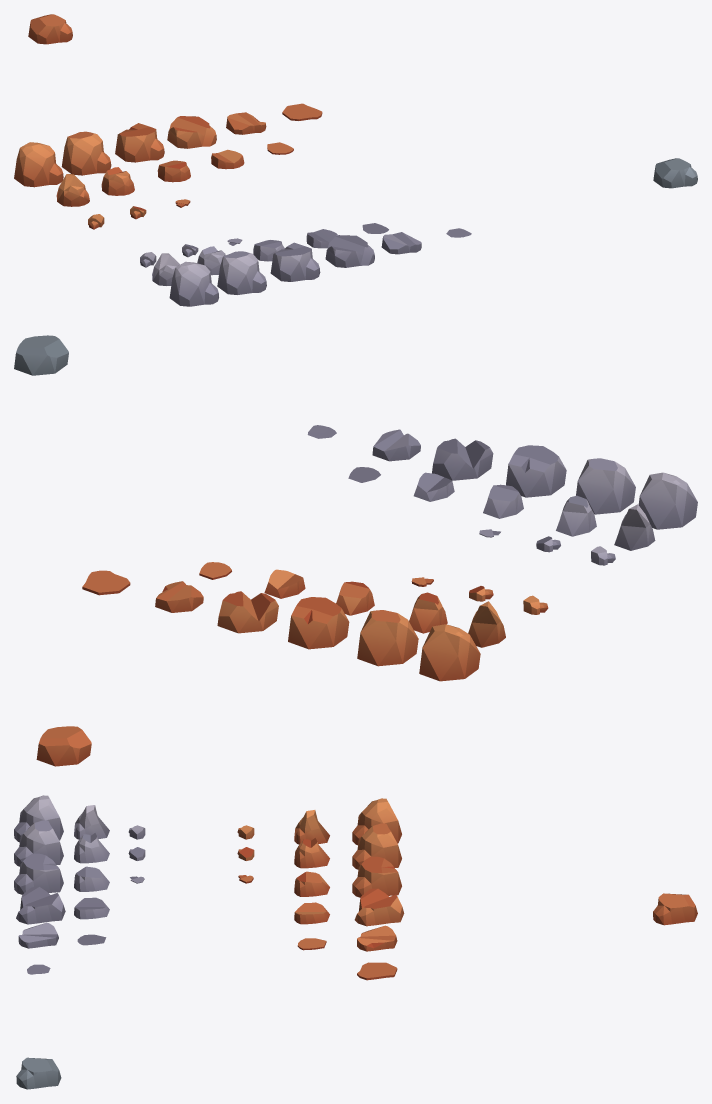
File: Stone.fbx
3 views of the same model, one above another, from view 1: azimuth 30°, elevation 25°; view 2: azimuth 150°, elevation 25°; view 3: azimuth 270°, elevation 25° (orthographic). The views are drawn at different scales.
Parts seen in each view (by area): view 1: Stone_C, Stone_S2_A, Stone_C_1, Stone_S2_A_1, Stone_S2_A_2, Stone_C_2, Stone_C_3, Stone_S2_A_3, Stone_S2_A_3.001, Stone_C_3.002, Stone_S2_B, Stone_S2_B_1 (+8 smaller); view 2: Stone_S2_A, Stone_S2_A_1, Stone_C, Stone_S2_A_2, Stone_C_1, Stone_C_2, Stone_S2_A_3, Stone_C_3, Stone_S2_A_3.001, Stone_C_3.002, Stone_B, Stone_B_1 (+9 smaller); view 3: Stone_C_2, Stone_S2_A_2, Stone_S2_A_1, Stone_C_1, Stone_S2_A_3, Stone_C_3, Stone_C_3.002, Stone_S2_A, Stone_S2_A_3.001, Stone_C, Stone_S2_B_1, Stone_B_1 (+9 smaller).
Part boxes in pixels (x1=…): Stone_C: x1=169, y1=261, x2=218, y2=306; Stone_S2_A: x1=14, y1=142, x2=63, y2=187; Stone_C_1: x1=217, y1=251, x2=266, y2=294; Stone_S2_A_1: x1=61, y1=131, x2=111, y2=175; Stone_S2_A_2: x1=115, y1=123, x2=164, y2=162; Stone_C_2: x1=270, y1=242, x2=320, y2=281; Stone_C_3: x1=325, y1=235, x2=374, y2=267; Stone_S2_A_3: x1=167, y1=116, x2=216, y2=148; Stone_S2_A_3.001: x1=28, y1=14, x2=72, y2=44; Stone_C_3.002: x1=653, y1=158, x2=697, y2=188; Stone_S2_B: x1=56, y1=174, x2=89, y2=206; Stone_S2_B_1: x1=101, y1=167, x2=134, y2=195; Stone_S2_A: x1=419, y1=624, x2=480, y2=681; Stone_S2_A_1: x1=357, y1=610, x2=418, y2=666; Stone_C: x1=638, y1=472, x2=697, y2=529; Stone_S2_A_2: x1=288, y1=597, x2=349, y2=649; Stone_C_1: x1=576, y1=458, x2=635, y2=514; Stone_C_2: x1=506, y1=445, x2=566, y2=497; Stone_S2_A_3: x1=217, y1=591, x2=278, y2=633; Stone_C_3: x1=432, y1=438, x2=493, y2=480; Stone_S2_A_3.001: x1=36, y1=726, x2=91, y2=766; Stone_C_3.002: x1=14, y1=335, x2=68, y2=375; Stone_B: x1=614, y1=504, x2=655, y2=550; Stone_B_1: x1=556, y1=495, x2=596, y2=536; Stone_C_2: x1=14, y1=853, x2=63, y2=894; Stone_S2_A_2: x1=352, y1=856, x2=401, y2=897; Stone_S2_A_1: x1=352, y1=823, x2=401, y2=869; Stone_C_1: x1=14, y1=820, x2=63, y2=866; Stone_S2_A_3: x1=354, y1=888, x2=404, y2=926; Stone_C_3: x1=16, y1=886, x2=65, y2=924; Stone_C_3.002: x1=16, y1=1057, x2=61, y2=1089; Stone_S2_A: x1=352, y1=798, x2=401, y2=845; Stone_S2_A_3.001: x1=653, y1=893, x2=697, y2=925; Stone_C: x1=14, y1=795, x2=63, y2=842; Stone_S2_B_1: x1=294, y1=838, x2=329, y2=868; Stone_B_1: x1=74, y1=833, x2=109, y2=863.
Size of the model in its own units: 18.48 by 1.15 by 20.14.
